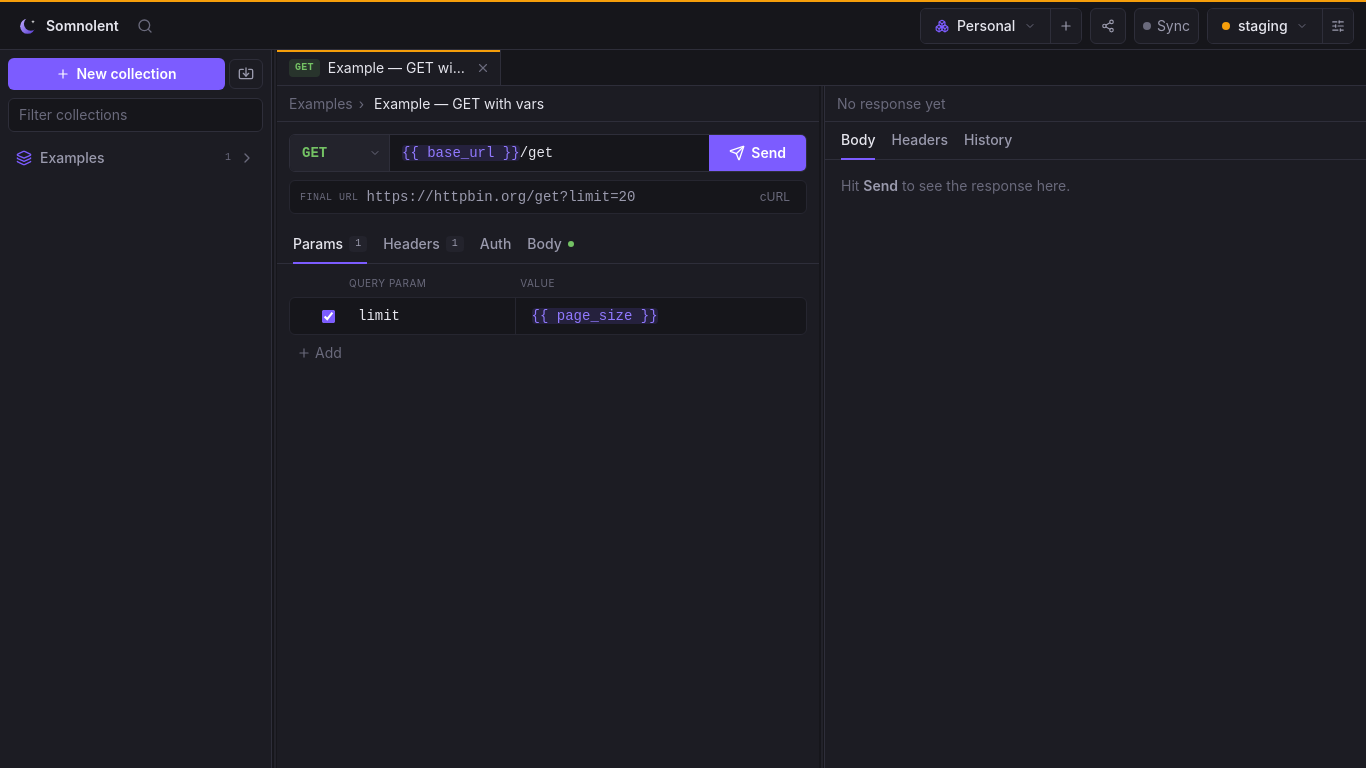
code editors › wrap the line instead of opening a horizontal scroll
Click the button "Body" below "https://httpbin.org/get?limit=20": click(551, 245) [527, 226, 574, 264]
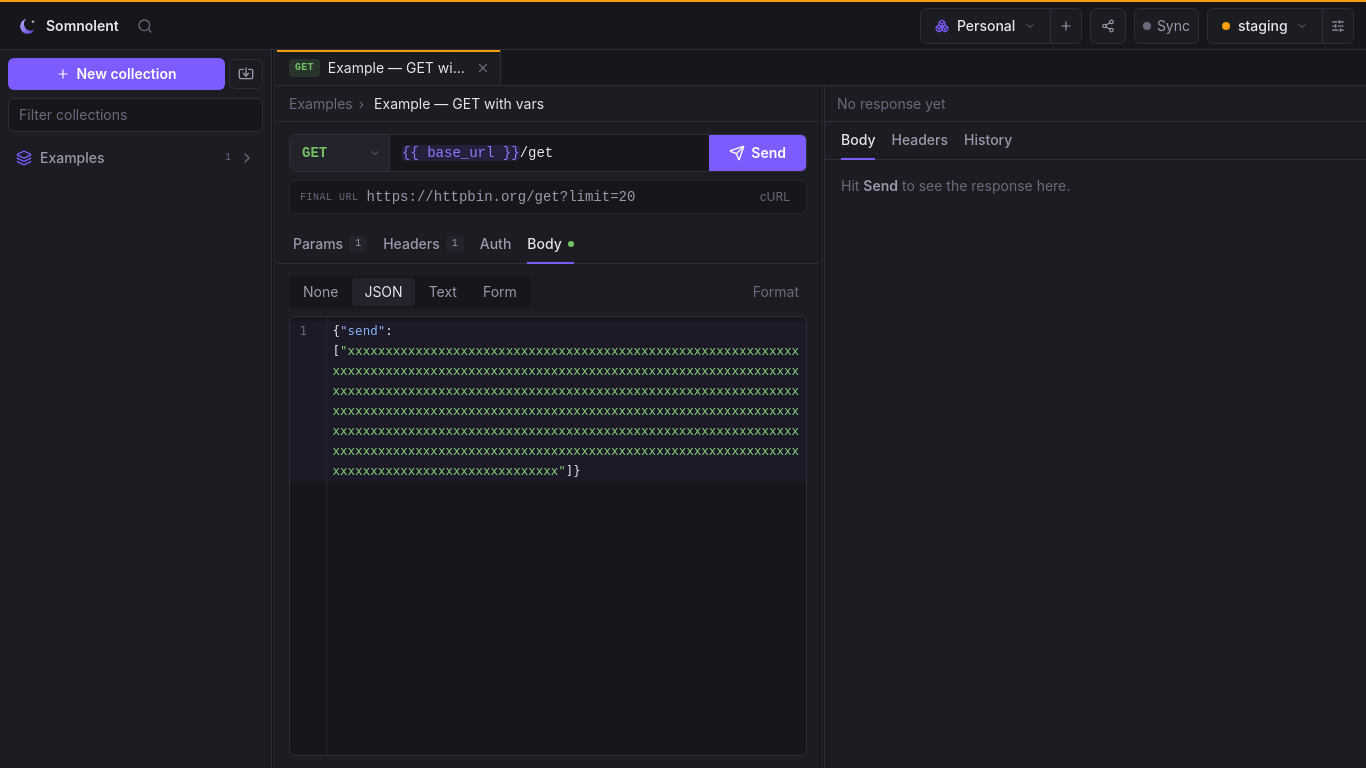
Expected: the field with class "cm-lineWrapping" is shown, [326, 321, 806, 481]
